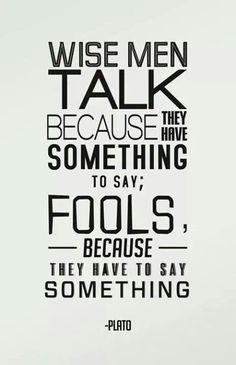latin: (43, 38, 190, 305), (103, 317, 132, 333)
